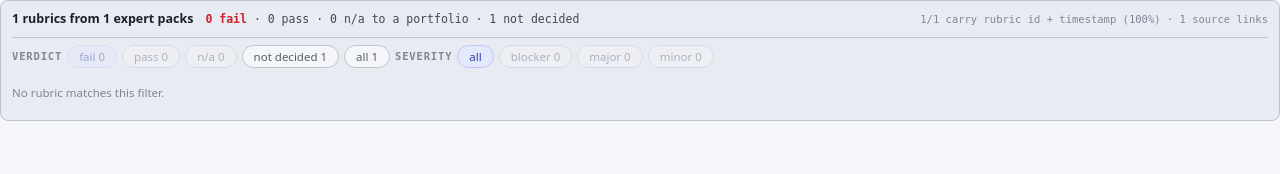
Test case: RubricVerdicts › says a rubric was not decided instead of dropping it
Click the button "not decided 1". click: (290, 56)
box: [242,45,339,68]
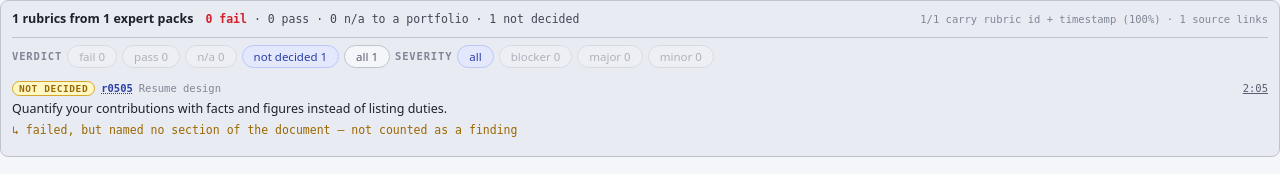
Check: the text "named no section of the document" is shown, box [26,122,518,136]
